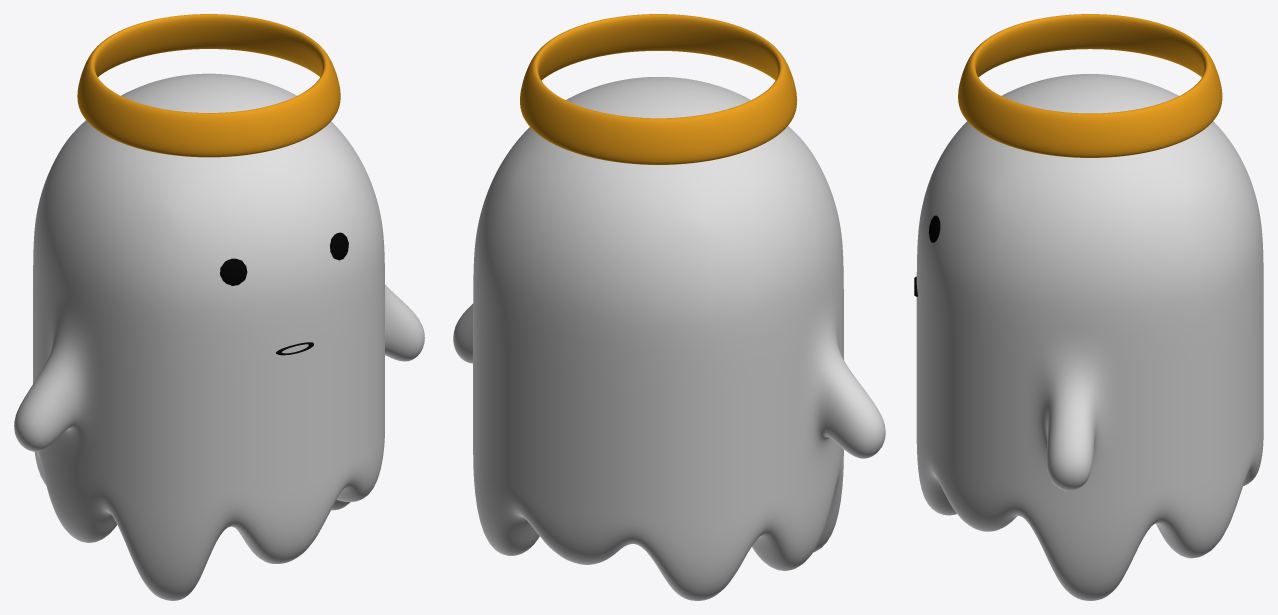
File: monument_ghost2.glb
3 views of the same model, side by side, from view 1: azimuth 30°, elevation 25°; view 2: azimuth 150°, elevation 25°; view 3: azimuth 270°, elevation 25° (orthographic). The views are drawn at different scales.
Parts seen in each view (by area): view 1: body, ring, face; view 2: body, ring; view 3: body, ring.
Part boxes in pixels (x1,y1,x2,y2): body: [14, 73, 424, 600]; ring: [77, 14, 340, 157]; face: [220, 232, 348, 355]; body: [453, 77, 885, 600]; ring: [520, 14, 797, 164]; body: [916, 74, 1263, 600]; ring: [958, 14, 1222, 157].
Size of the model in its own units: 2.26 by 2.54 by 1.68.
